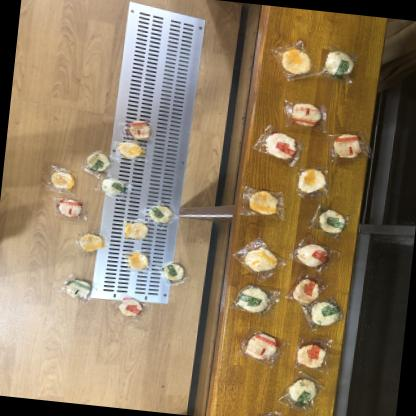green_setoshio: (278, 368, 326, 412), (227, 282, 280, 318), (320, 44, 365, 84), (309, 204, 352, 238), (306, 299, 346, 332), (156, 258, 194, 290), (60, 272, 98, 304), (94, 171, 133, 202), (146, 198, 183, 228), (83, 150, 113, 178)
red_setoshio: (251, 122, 306, 163), (292, 232, 341, 275), (281, 98, 332, 136), (238, 327, 284, 368), (326, 126, 372, 164), (290, 336, 336, 374), (117, 112, 158, 142), (288, 273, 324, 305), (51, 196, 90, 223), (116, 294, 146, 321)
yellow_setoshio: (288, 158, 338, 202), (238, 238, 288, 282), (239, 180, 290, 223), (272, 38, 320, 83), (66, 223, 112, 259), (44, 163, 80, 196), (115, 214, 153, 245), (120, 245, 153, 278), (111, 136, 148, 165), (242, 405, 286, 416)
